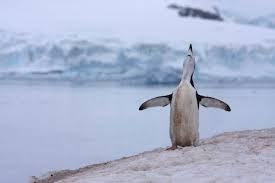chinstrap: (131, 31, 226, 164)
